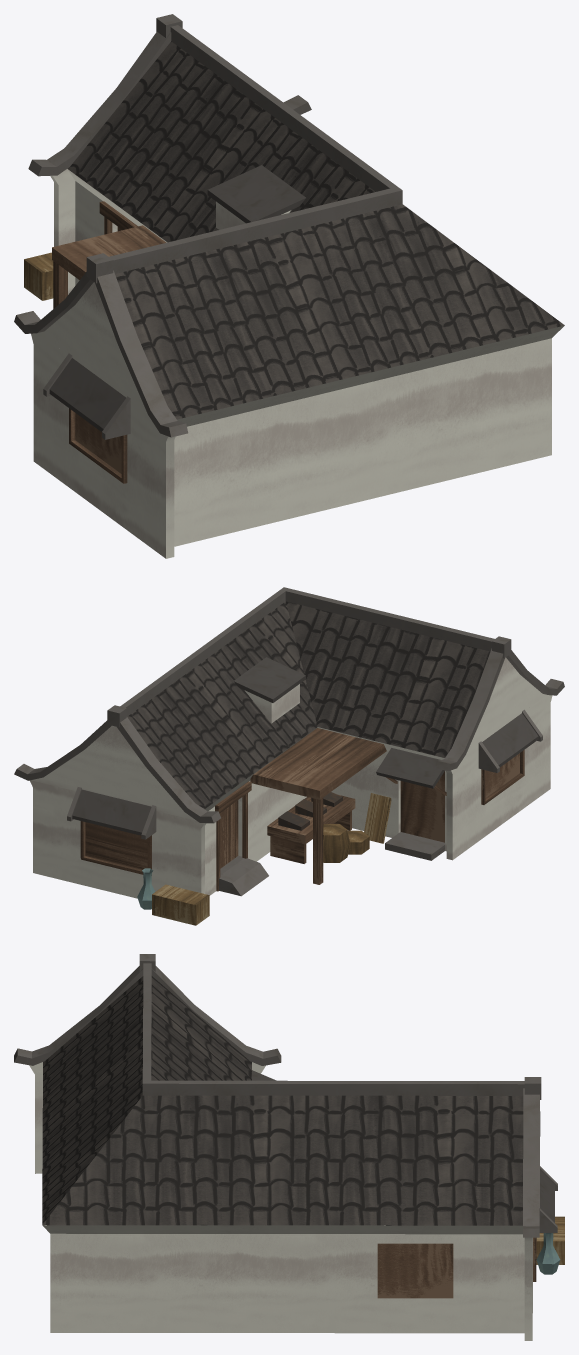
File: MinJu04.fbx
The picture shows the model from 3 angles, top to bottom: view 1: azimuth 30°, elevation 25°; view 2: azimuth 150°, elevation 25°; view 3: azimuth 270°, elevation 25°; orthographic projection. The views are drawn at different scales.
Visible parts, largest first — view 1: minju04; view 2: minju04; view 3: minju04.
Part boxes in pixels (x1,y1,x2,y2): minju04: (14, 14, 564, 558); minju04: (14, 587, 564, 925); minju04: (14, 954, 564, 1340).
Bounding box in the file's own units: 311 × 162 × 381.
